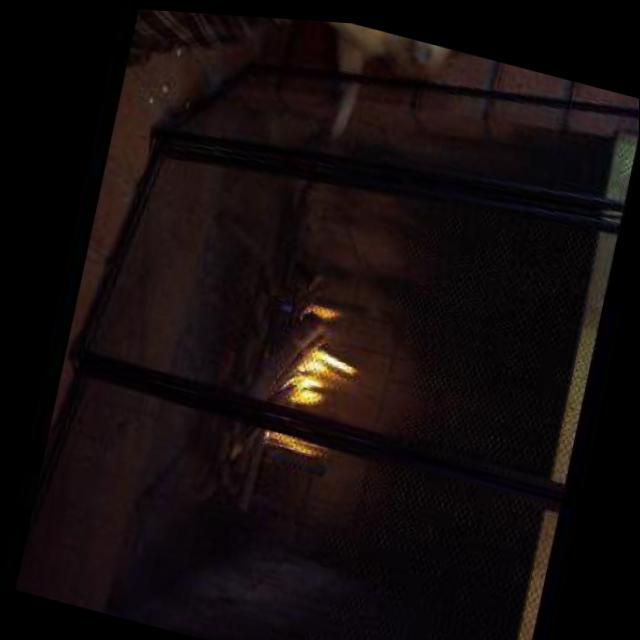Fire: (263, 286, 381, 471)
